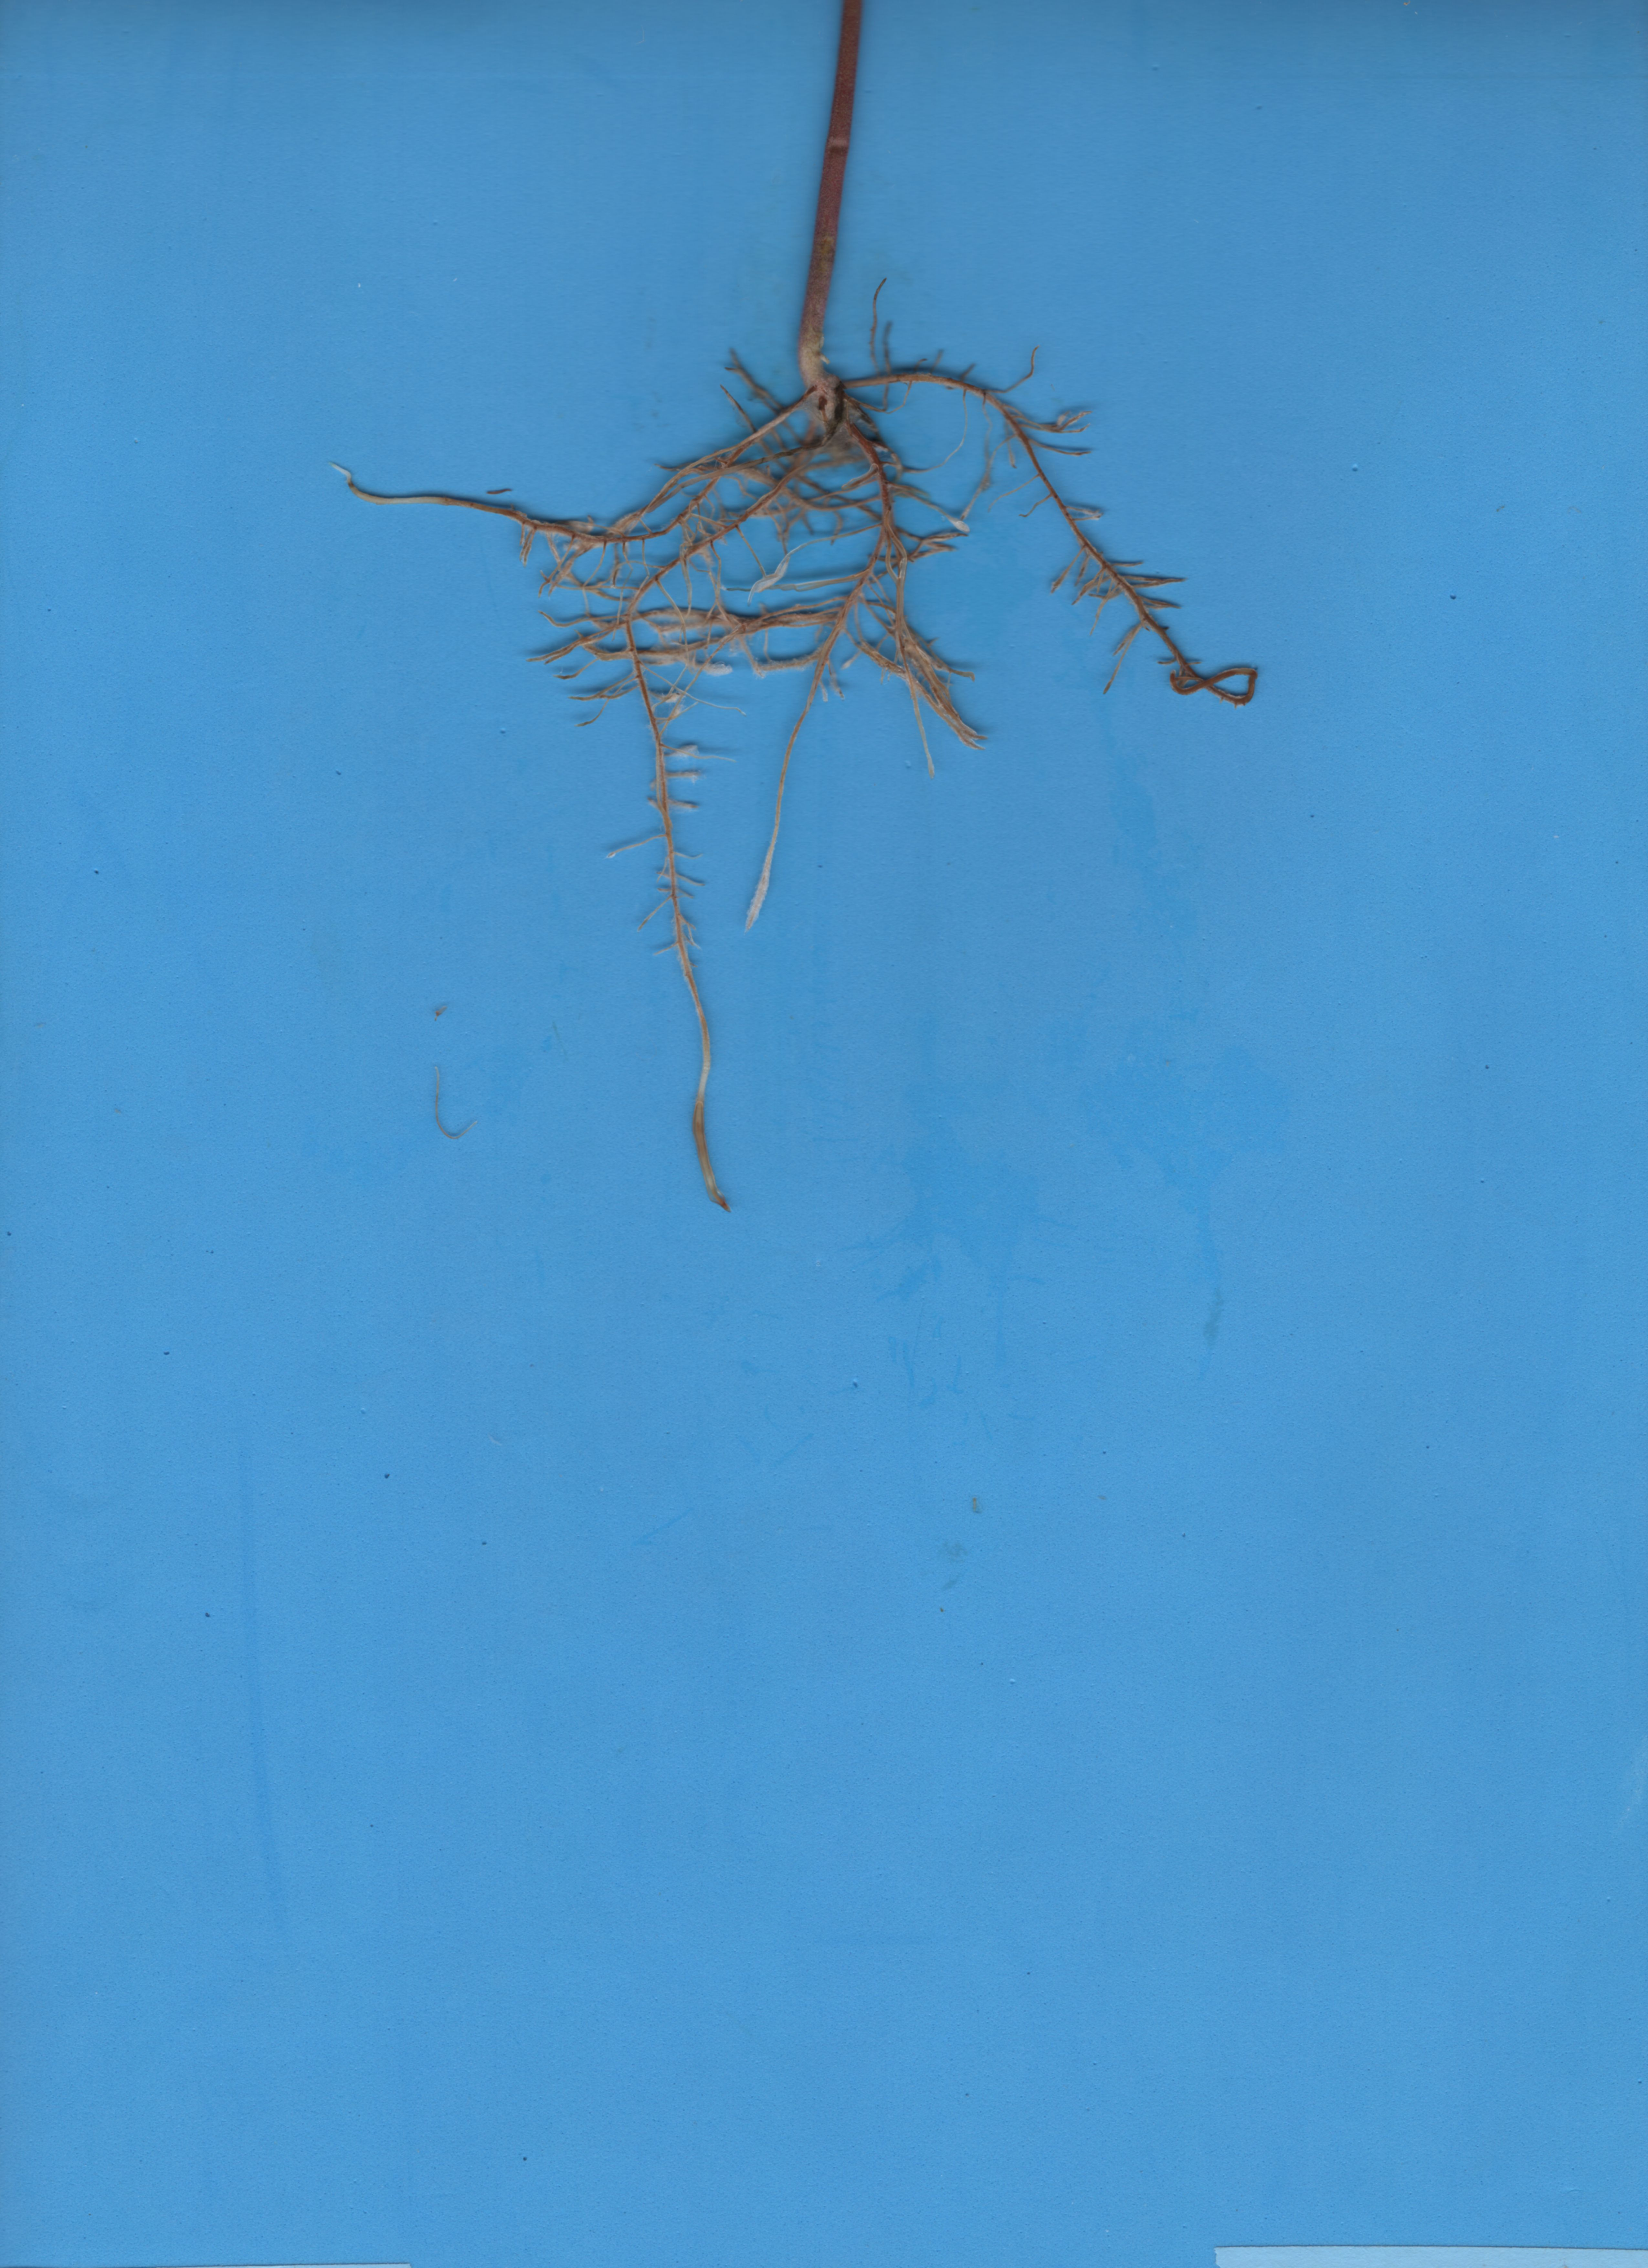CROWNDISEASE: (743, 5, 921, 379)
ROOTDISEASE: (349, 333, 1273, 1231)
